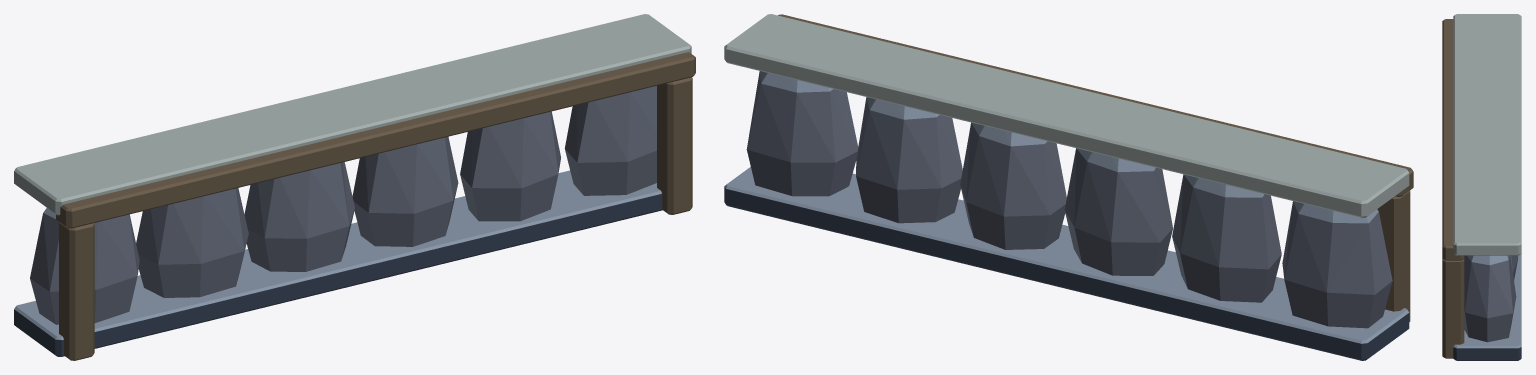
File: wall-long.glb
The picture shows the model from 3 angles, left to right: view 1: azimuth 30°, elevation 25°; view 2: azimuth 150°, elevation 25°; view 3: azimuth 270°, elevation 25°; orthographic projection. The views are drawn at different scales.
Parts seen in each view (by area): view 1: wall-long__body; view 2: wall-long__body; view 3: wall-long__body.
Boxes of the visible parts, x1=… form: wall-long__body: x1=14, y1=14, x2=695, y2=360; wall-long__body: x1=724, y1=14, x2=1413, y2=360; wall-long__body: x1=1442, y1=14, x2=1521, y2=360.
Bounding box in the file's own units: 4 × 0.95 × 0.58.
